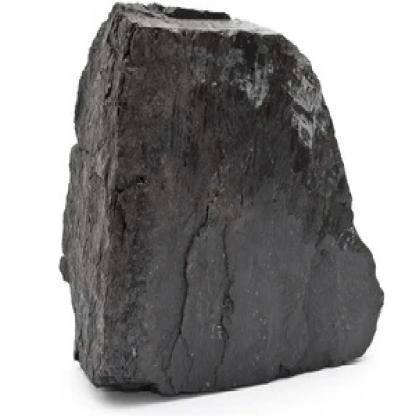Sedimentary_coal: (38, 0, 400, 401)
